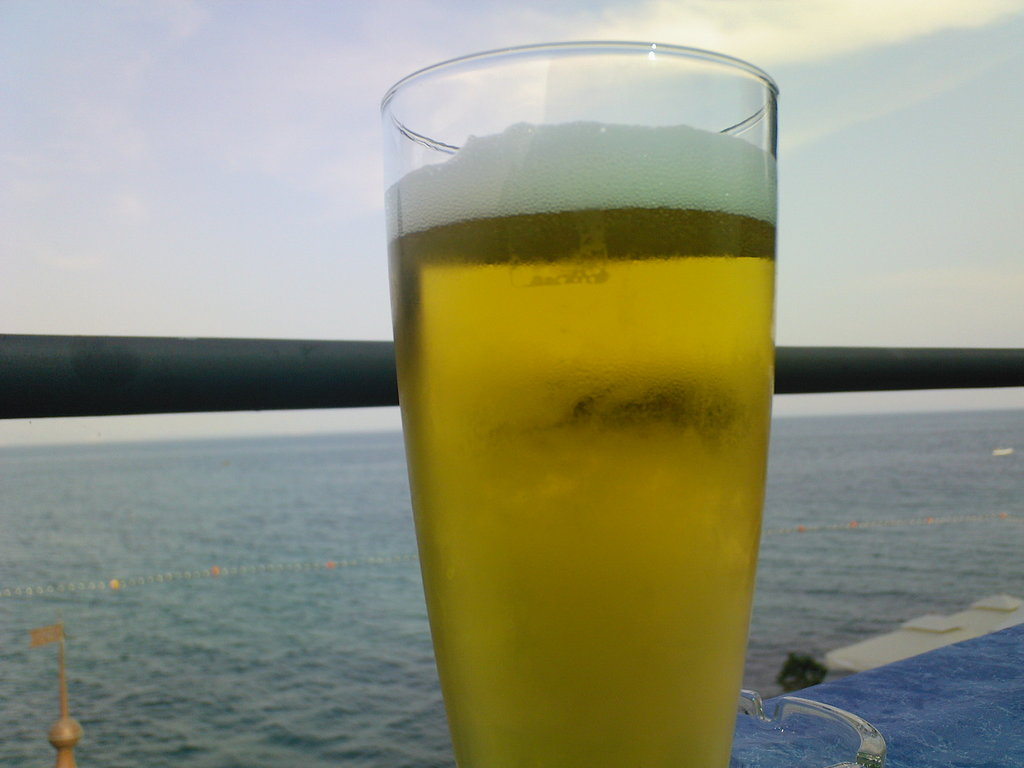Beer: (362, 37, 786, 763)
